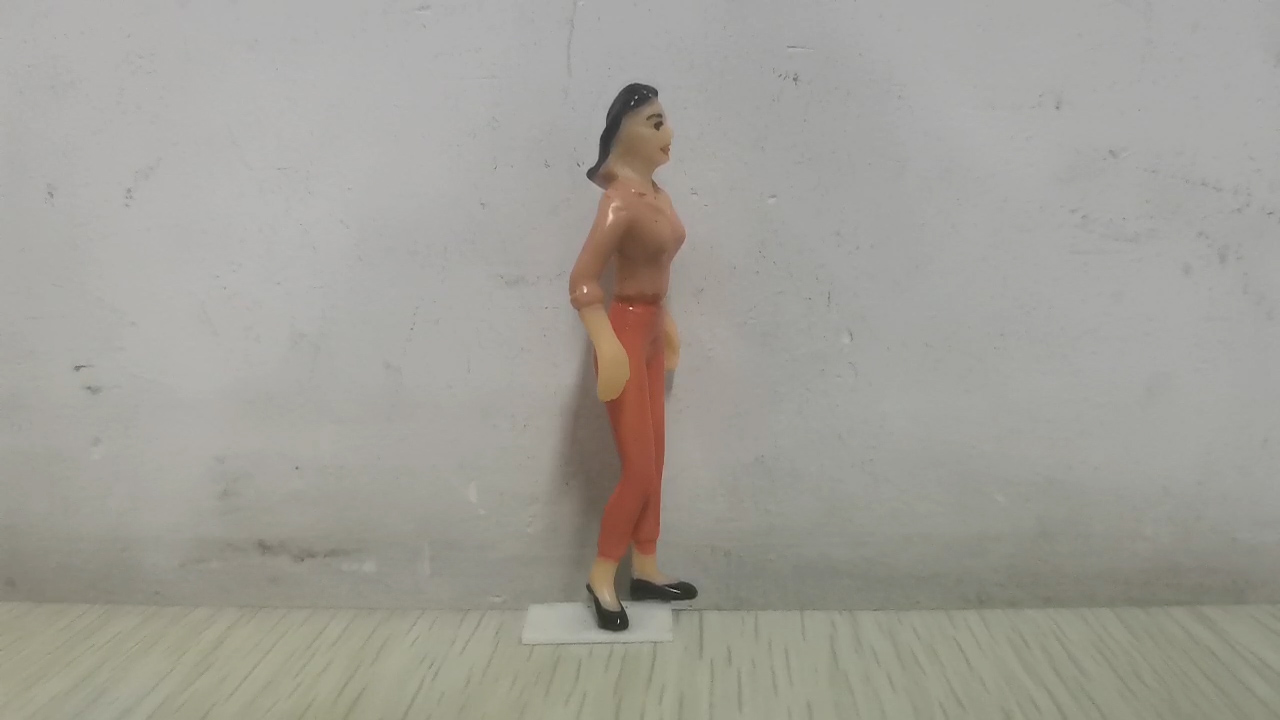person: (567, 81, 699, 632)
